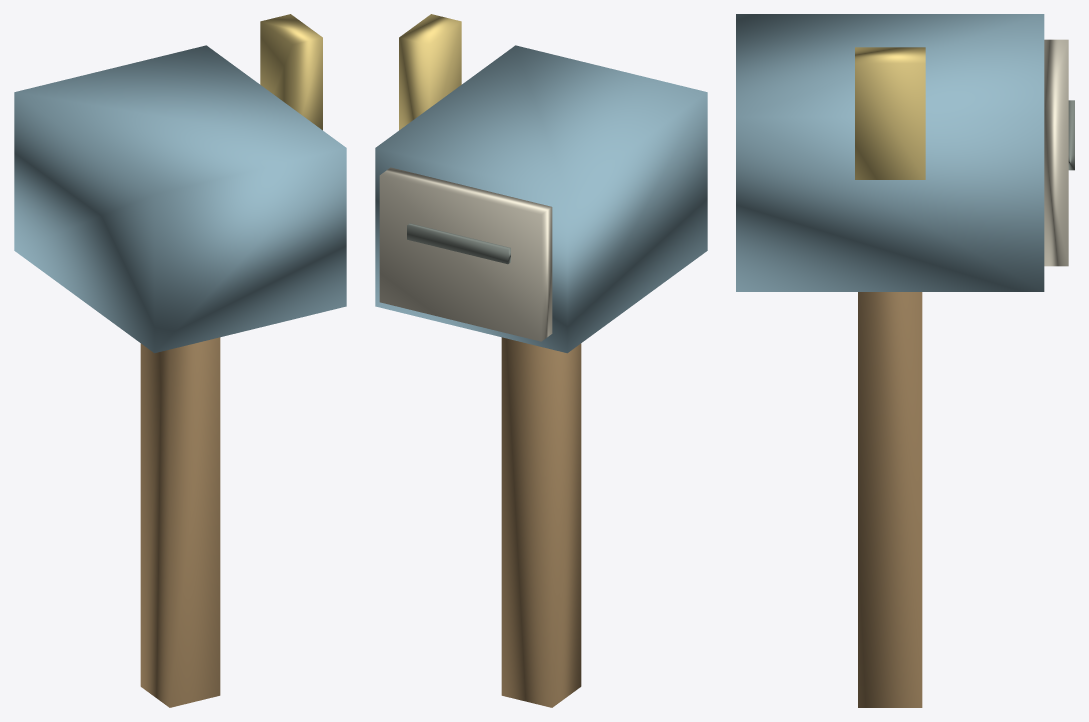
Rendered from mailbox_blue_low.glb.
3 renders of one model, left to right at view 1: azimuth 30°, elevation 25°; view 2: azimuth 150°, elevation 25°; view 3: azimuth 270°, elevation 25°, orthographic. The views are drawn at different scales.
Size of the model in its own units: 0.44 by 1.2 by 0.5275.
